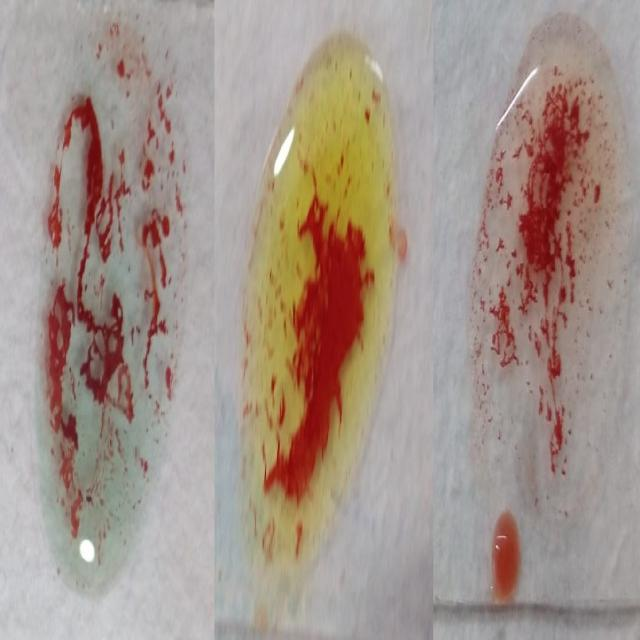A: (36, 15, 170, 608)
B: (242, 27, 386, 584)
D: (472, 36, 620, 501)
